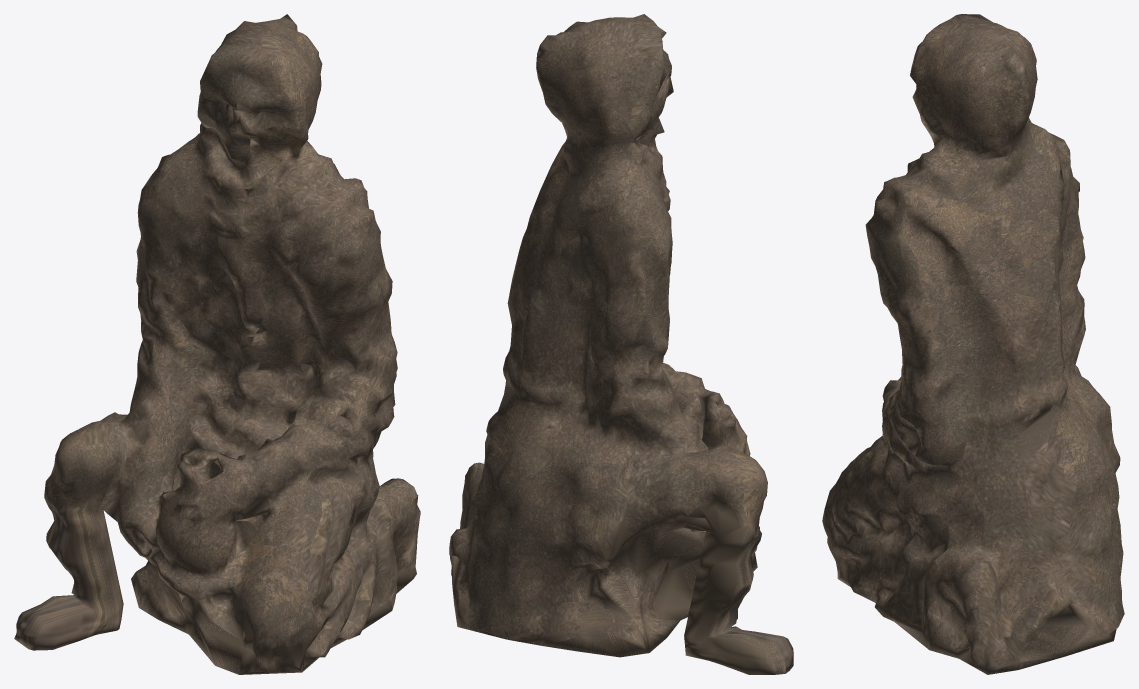
The picture shows the model from 3 angles, left to right: view 1: azimuth 30°, elevation 25°; view 2: azimuth 150°, elevation 25°; view 3: azimuth 270°, elevation 25°; orthographic projection. The views are drawn at different scales.
Visible parts, largest first — view 1: Mesh_0; view 2: Mesh_0; view 3: Mesh_0.
Boxes of the visible parts, bbox=[...] form: Mesh_0: bbox=[14, 14, 420, 674]; Mesh_0: bbox=[449, 14, 793, 674]; Mesh_0: bbox=[822, 14, 1124, 674].
Size of the model in its own units: 3.42 by 5.28 by 2.49.
4 materials, 4 textured.
